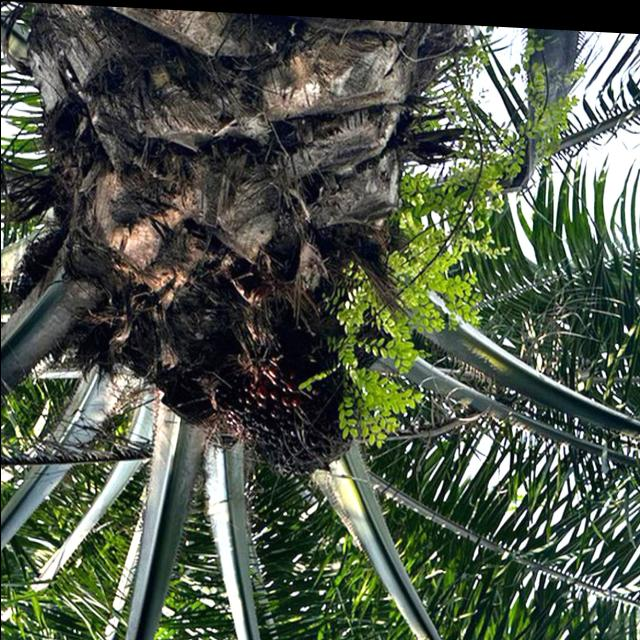ripe: (196, 323, 362, 482)
